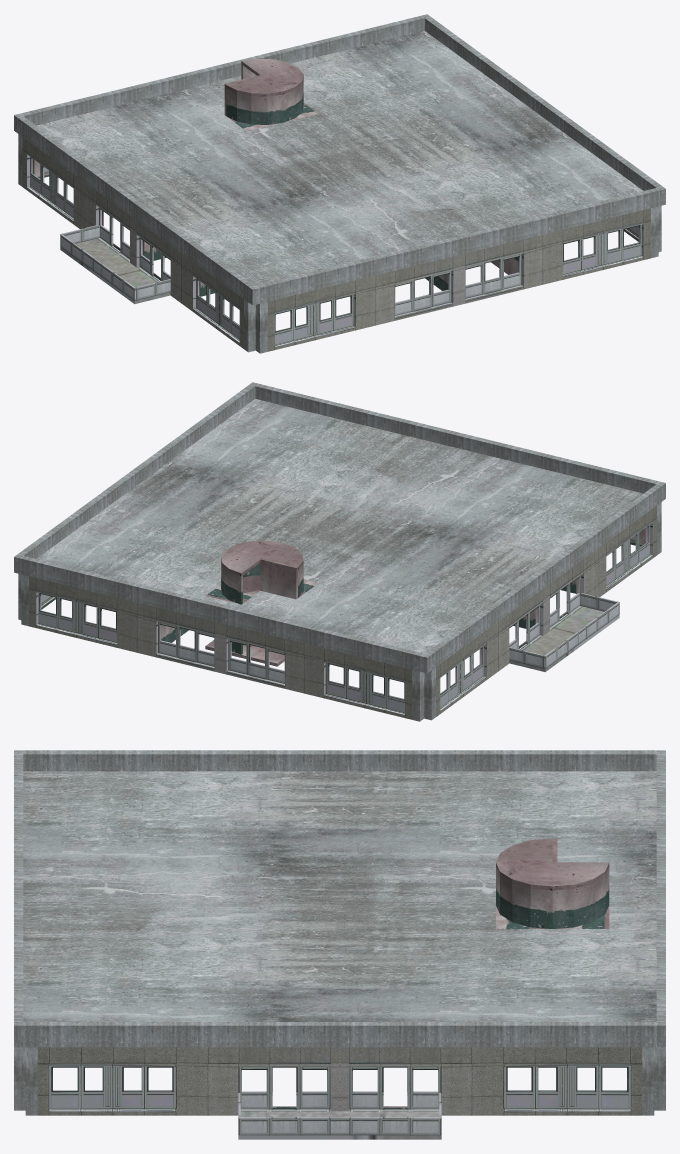
Rendered from BagSS10top_500.fbx.
3 renders of one model, top to bottom at view 1: azimuth 30°, elevation 25°; view 2: azimuth 150°, elevation 25°; view 3: azimuth 270°, elevation 25°, orthographic. The views are drawn at different scales.
Parts seen in each view (by area): view 1: topRoof500, topMain500, topStairs500, topWalls500; view 2: topRoof500, topMain500, topStairs500, topWalls500; view 3: topRoof500, topMain500, topStairs500.
Part boxes in pixels (left/top/right/bottom): topRoof500: left=14, top=14, right=665, bottom=353; topMain500: left=22, top=137, right=650, bottom=351; topStairs500: left=224, top=58, right=318, bottom=131; topWalls500: left=32, top=159, right=638, bottom=296; topRoof500: left=14, top=382, right=665, bottom=721; topMain500: left=29, top=505, right=657, bottom=719; topStairs500: left=205, top=540, right=318, bottom=666; topWalls500: left=41, top=527, right=647, bottom=663; topRoof500: left=14, top=750, right=665, bottom=1115; topMain500: left=37, top=1047, right=642, bottom=1139; topStairs500: left=496, top=838, right=609, bottom=928.
Size of the model in its own units: 51.84 by 8.64 by 44.16.
